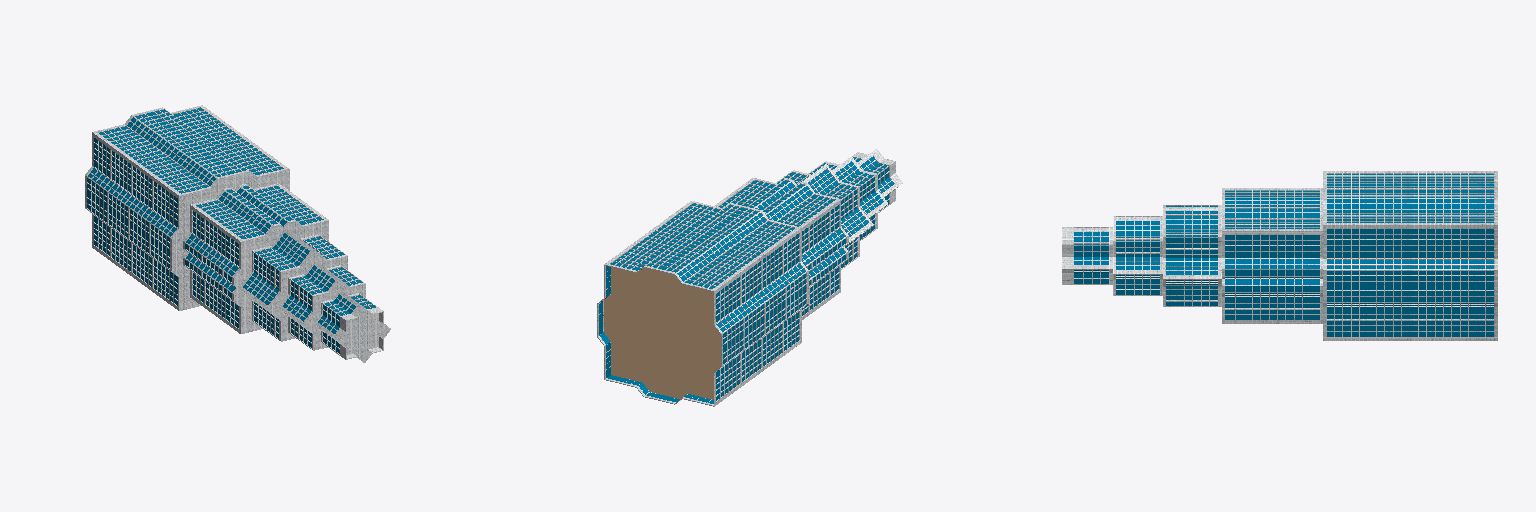
The picture shows the model from 3 angles: view 1: azimuth 30°, elevation 25°; view 2: azimuth 150°, elevation 25°; view 3: azimuth 270°, elevation 25°; orthographic projection.
Parts seen in each view (by area): view 1: Wall_09, Glass_05, Wall_08, Glass_04, Wall_02, Wall_01, Wall_07, Glass_03, Glass_02, Wall_06, Glass_01, Wall_04 (+1 smaller); view 2: Slab_01, Glass_05, Wall_08, Wall_09, Glass_04, Wall_02, Wall_01, Wall_07, Glass_03, Glass_02, Wall_06; view 3: Glass_05, Wall_08, Glass_04, Wall_02, Wall_07, Wall_01, Glass_03, Glass_02, Wall_06, Glass_01, Wall_04, Wall_03.
Boxes of the visible parts, <box> form: Wall_09: <box>87,107,390,362</box>; Glass_05: <box>87,108,282,305</box>; Wall_08: <box>87,107,287,309</box>; Glass_04: <box>185,186,322,327</box>; Wall_02: <box>91,110,372,339</box>; Wall_01: <box>85,105,378,356</box>; Wall_07: <box>185,184,328,332</box>; Glass_03: <box>243,233,343,338</box>; Glass_02: <box>283,265,361,347</box>; Wall_06: <box>240,230,345,339</box>; Glass_01: <box>318,294,375,353</box>; Wall_04: <box>280,262,362,350</box>; Slab_01: <box>604,267,720,399</box>; Glass_05: <box>599,204,805,403</box>; Wall_08: <box>599,202,806,404</box>; Wall_09: <box>597,156,894,406</box>; Glass_04: <box>719,180,845,315</box>; Wall_02: <box>603,160,892,400</box>; Wall_01: <box>598,152,898,406</box>; Wall_07: <box>715,179,847,319</box>; Glass_03: <box>777,169,868,267</box>; Glass_02: <box>810,161,883,239</box>; Wall_06: <box>776,165,871,269</box>; Glass_05: <box>1327,174,1493,336</box>; Wall_08: <box>1327,171,1493,340</box>; Glass_04: <box>1225,191,1319,319</box>; Wall_02: <box>1083,171,1485,340</box>; Wall_07: <box>1223,188,1319,323</box>; Wall_01: <box>1071,171,1497,340</box>; Glass_03: <box>1166,206,1217,305</box>; Glass_02: <box>1116,221,1159,294</box>; Wall_06: <box>1166,205,1217,306</box>; Glass_01: <box>1074,232,1108,283</box>; Wall_04: <box>1116,216,1159,295</box>; Wall_03: <box>1074,227,1108,284</box>.
Size of the model in its own units: 2060 by 2060 by 6228.
Materials: 3 (1 with a texture image).